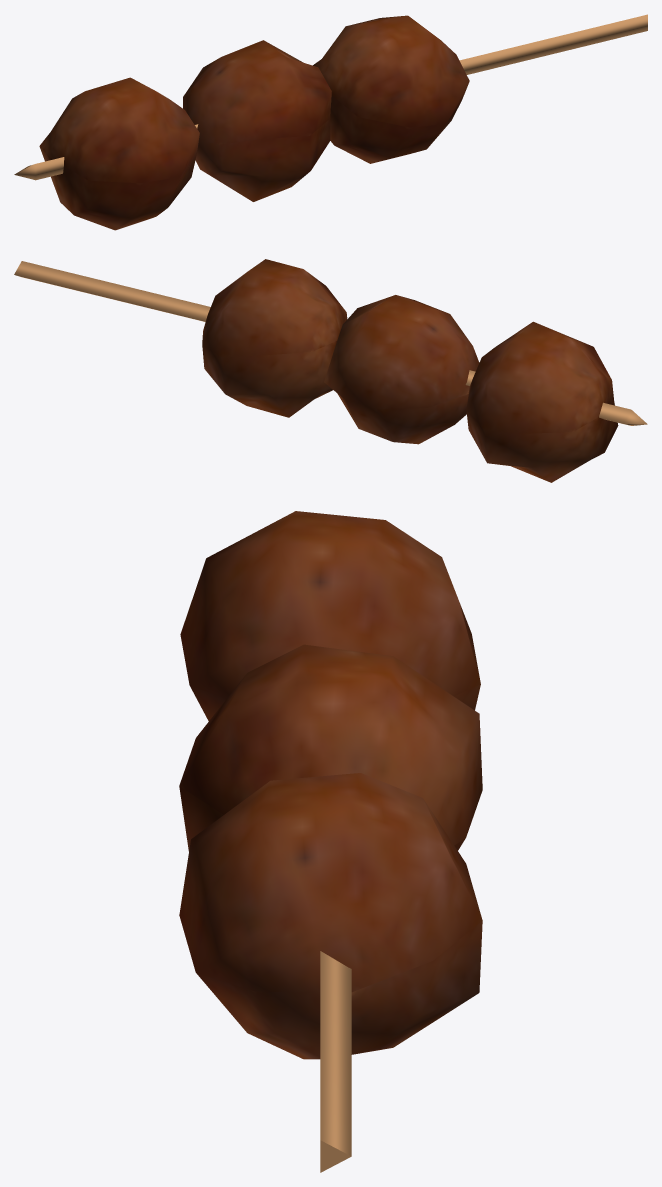
File: MeatBall.fbx
The picture shows the model from 3 angles, top to bottom: view 1: azimuth 30°, elevation 25°; view 2: azimuth 150°, elevation 25°; view 3: azimuth 270°, elevation 25°; orthographic projection. The views are drawn at different scales.
Parts seen in each view (by area): view 1: MeatBall; view 2: MeatBall; view 3: MeatBall.
Part boxes in pixels (left/top/right/bottom): MeatBall: left=14, top=14, right=647, bottom=230; MeatBall: left=14, top=259, right=647, bottom=482; MeatBall: left=179, top=511, right=482, bottom=1172.
Bounding box in the file's own units: 238 × 48.85 × 49.78.
